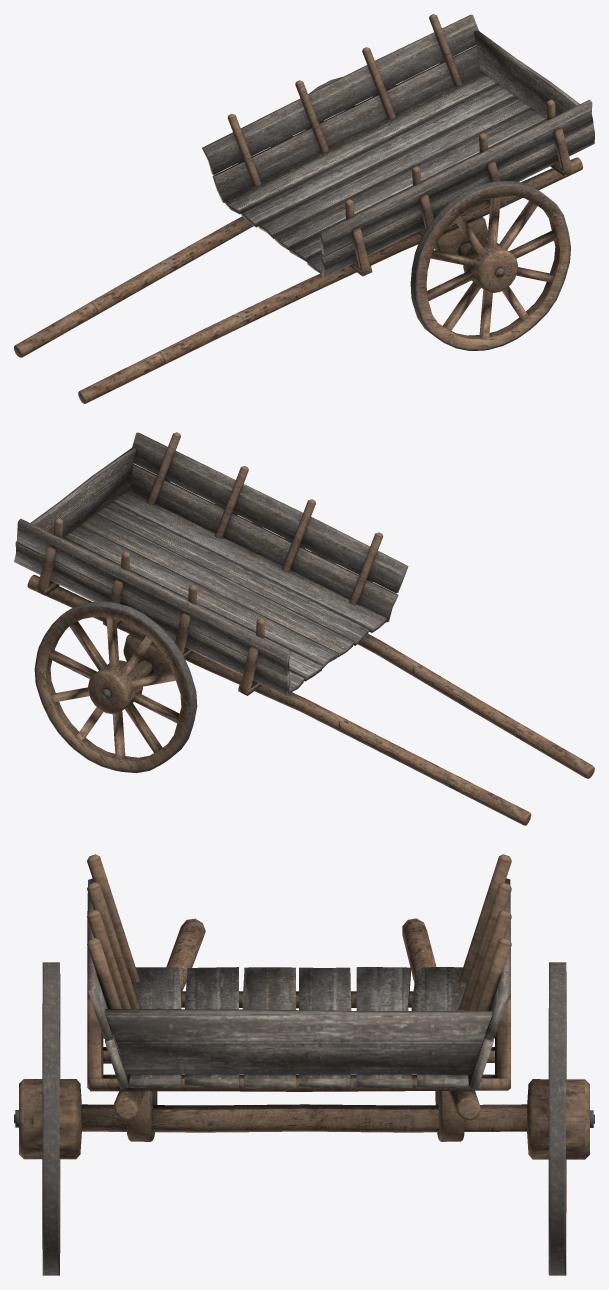
The model's file is cart_small.obj.
3 renders of one model, top to bottom at view 1: azimuth 30°, elevation 25°; view 2: azimuth 150°, elevation 25°; view 3: azimuth 270°, elevation 25°, orthographic. The views are drawn at different scales.
Bounding box in the file's own units: 297 × 126 × 173.
